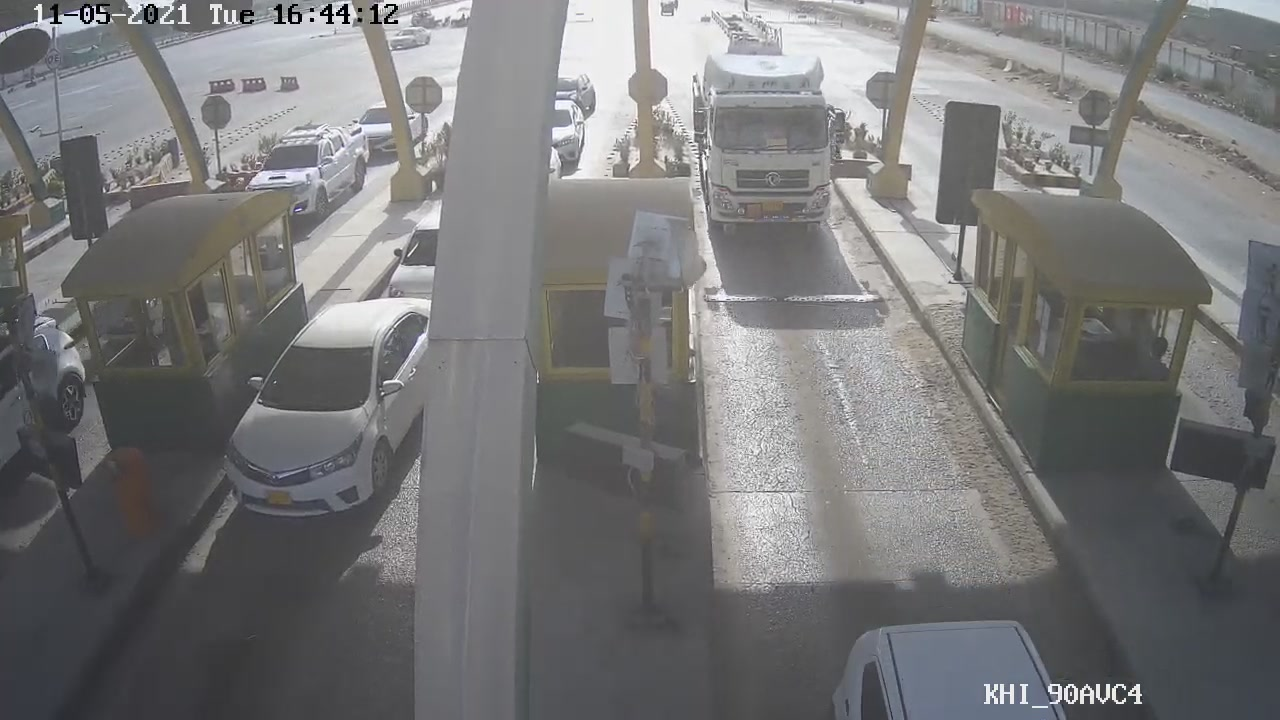F6: (683, 13, 863, 235)
